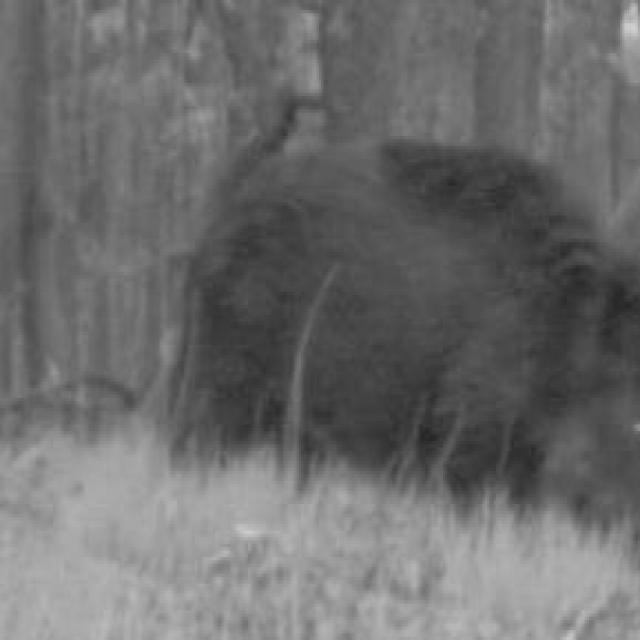pig: (125, 75, 640, 566)
